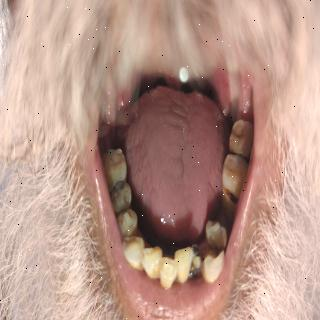cavities: (185, 238, 207, 278), (223, 181, 241, 209)
stains: (108, 177, 134, 213)
